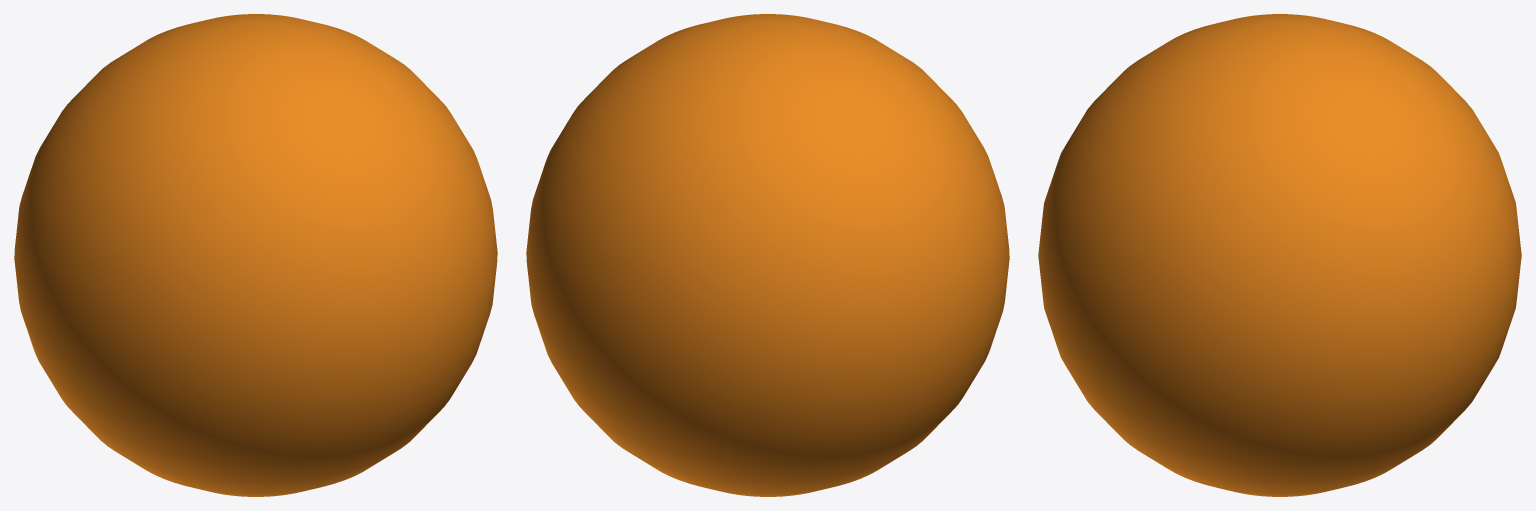
The model's file is yellowball.fbx.
The picture shows the model from 3 angles, left to right: view 1: azimuth 30°, elevation 25°; view 2: azimuth 150°, elevation 25°; view 3: azimuth 270°, elevation 25°; orthographic projection.
Visible parts, largest first — view 1: YellowBall; view 2: YellowBall; view 3: YellowBall.
Boxes of the visible parts, bbox=[...] form: YellowBall: bbox=[14, 14, 497, 496]; YellowBall: bbox=[526, 14, 1009, 496]; YellowBall: bbox=[1038, 14, 1521, 496].
Bounding box in the file's own units: 0.4691 × 0.4691 × 0.4691.
